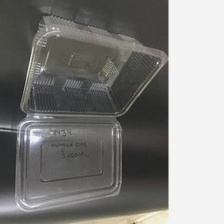plastic_box: (6, 10, 168, 216)
